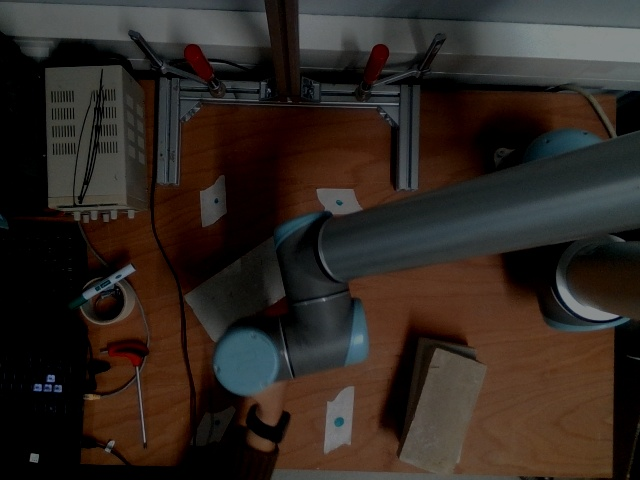brick: (400, 351, 482, 476)
